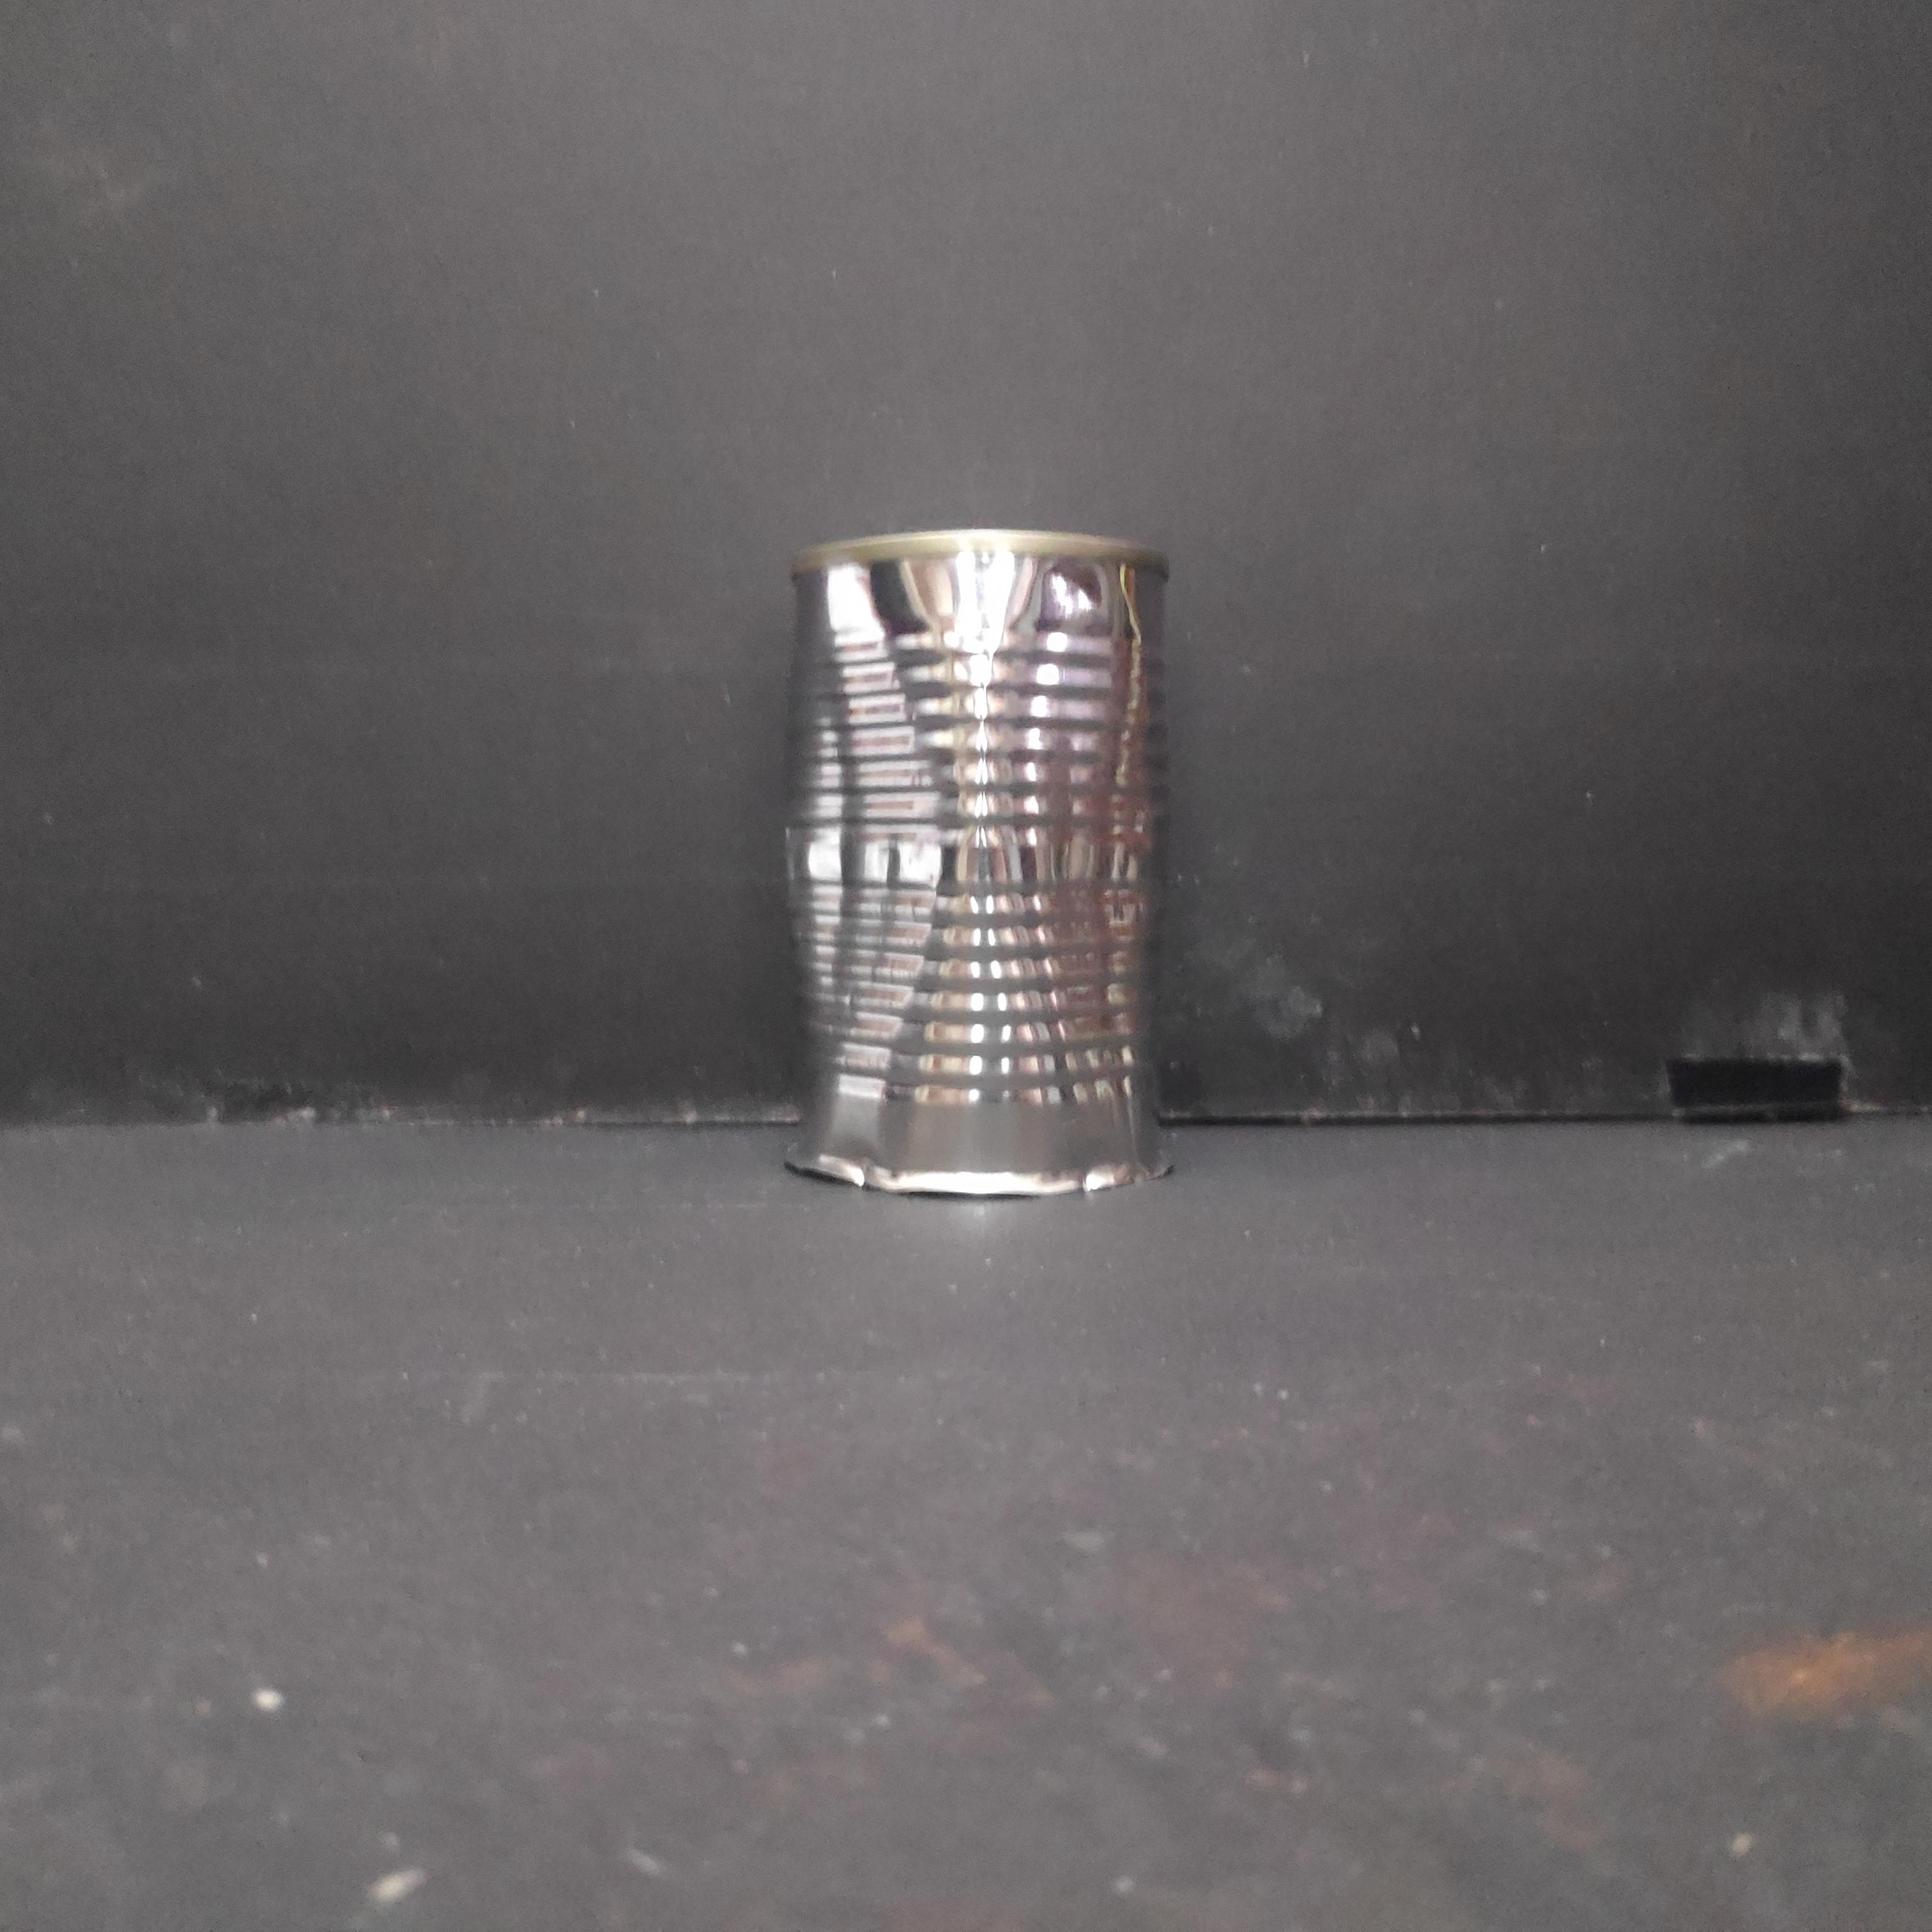Minor Defect: (771, 515, 1189, 1201)
